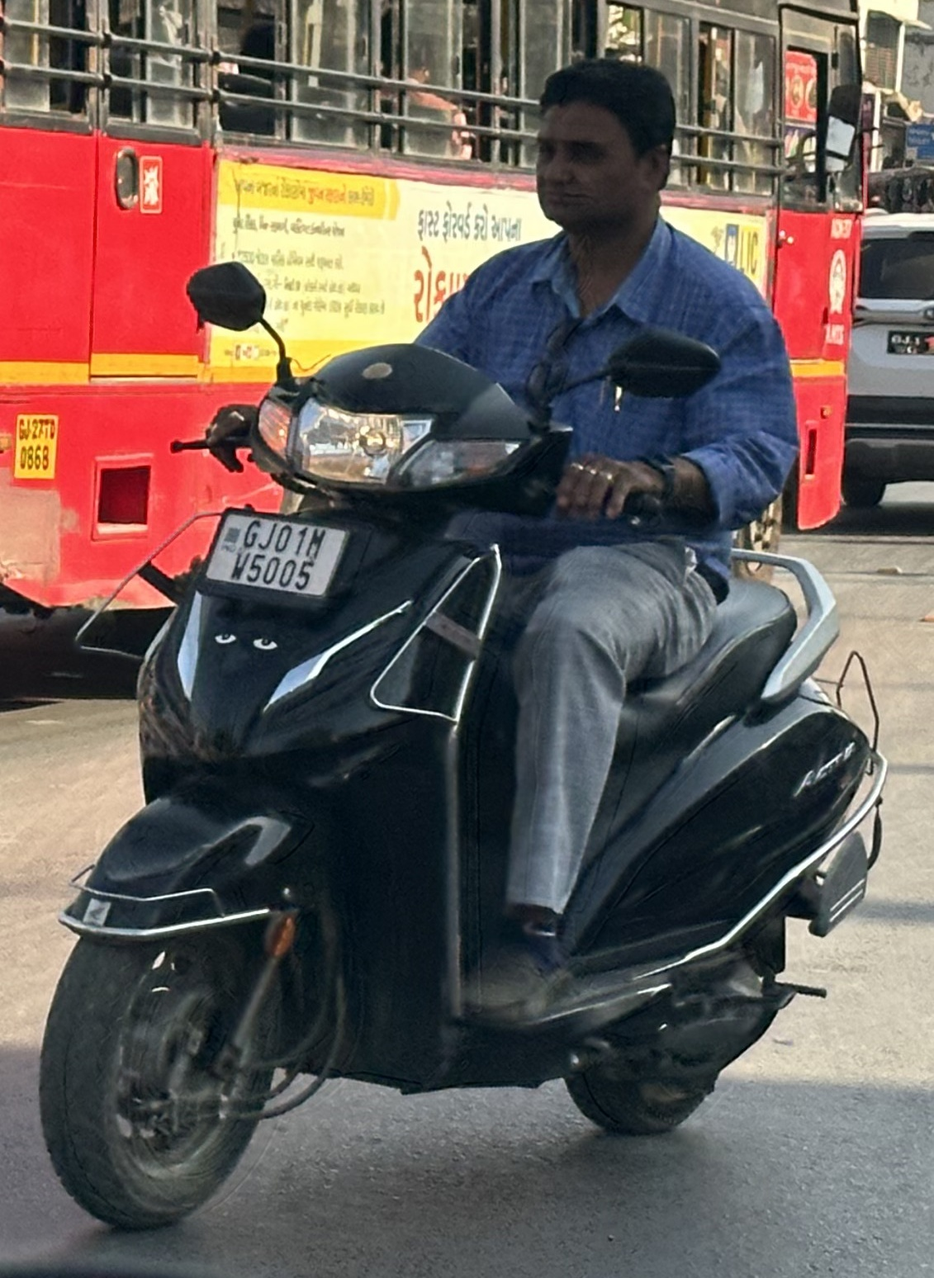BikeWithRider: (19, 41, 896, 1242)
NoHelmet: (513, 47, 685, 235)
